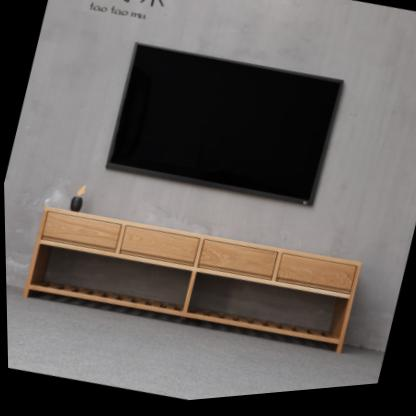TV stand: (21, 208, 362, 360)
